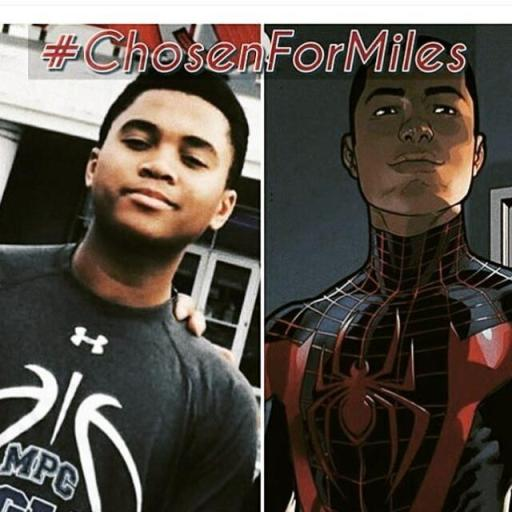Under Armour: (65, 323, 113, 358)
